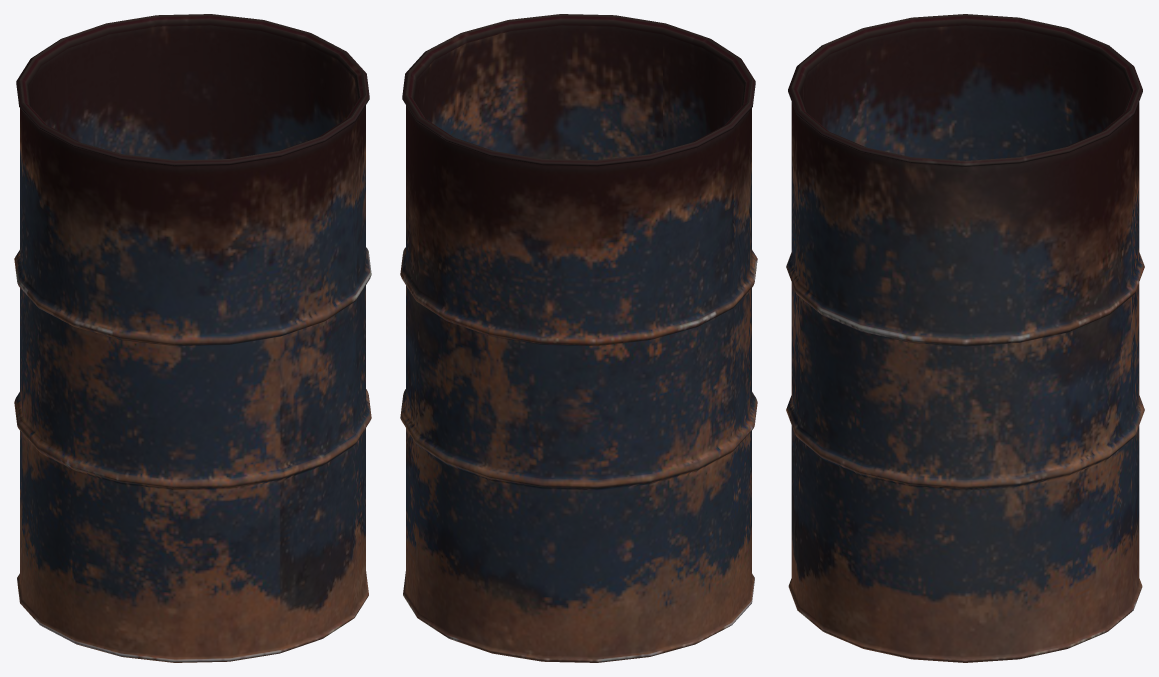
Rendered from Burn_Barrel_1.1.fbx.
3 renders of one model, left to right at view 1: azimuth 30°, elevation 25°; view 2: azimuth 150°, elevation 25°; view 3: azimuth 270°, elevation 25°, orthographic.
Visible parts, largest first — view 1: Burn_Barrel; view 2: Burn_Barrel; view 3: Burn_Barrel.
Boxes of the visible parts, x1,y1,x2,y2 form: Burn_Barrel: [14, 14, 371, 662]; Burn_Barrel: [400, 14, 757, 662]; Burn_Barrel: [786, 14, 1144, 662].
Size of the model in its own units: 93.23 by 144 by 93.23.
1 material, 1 textured.
